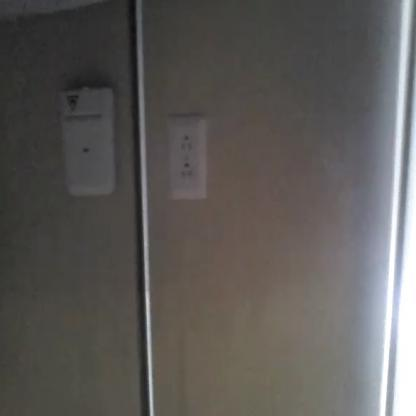OUTLET: (168, 113, 208, 202)
